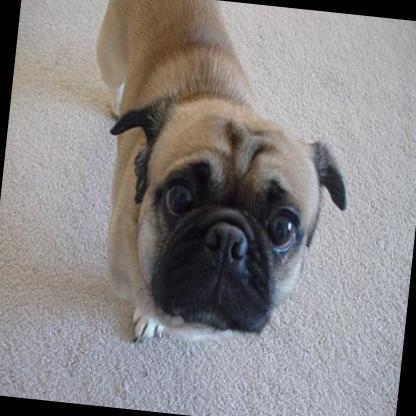pug: (61, 0, 364, 366)
